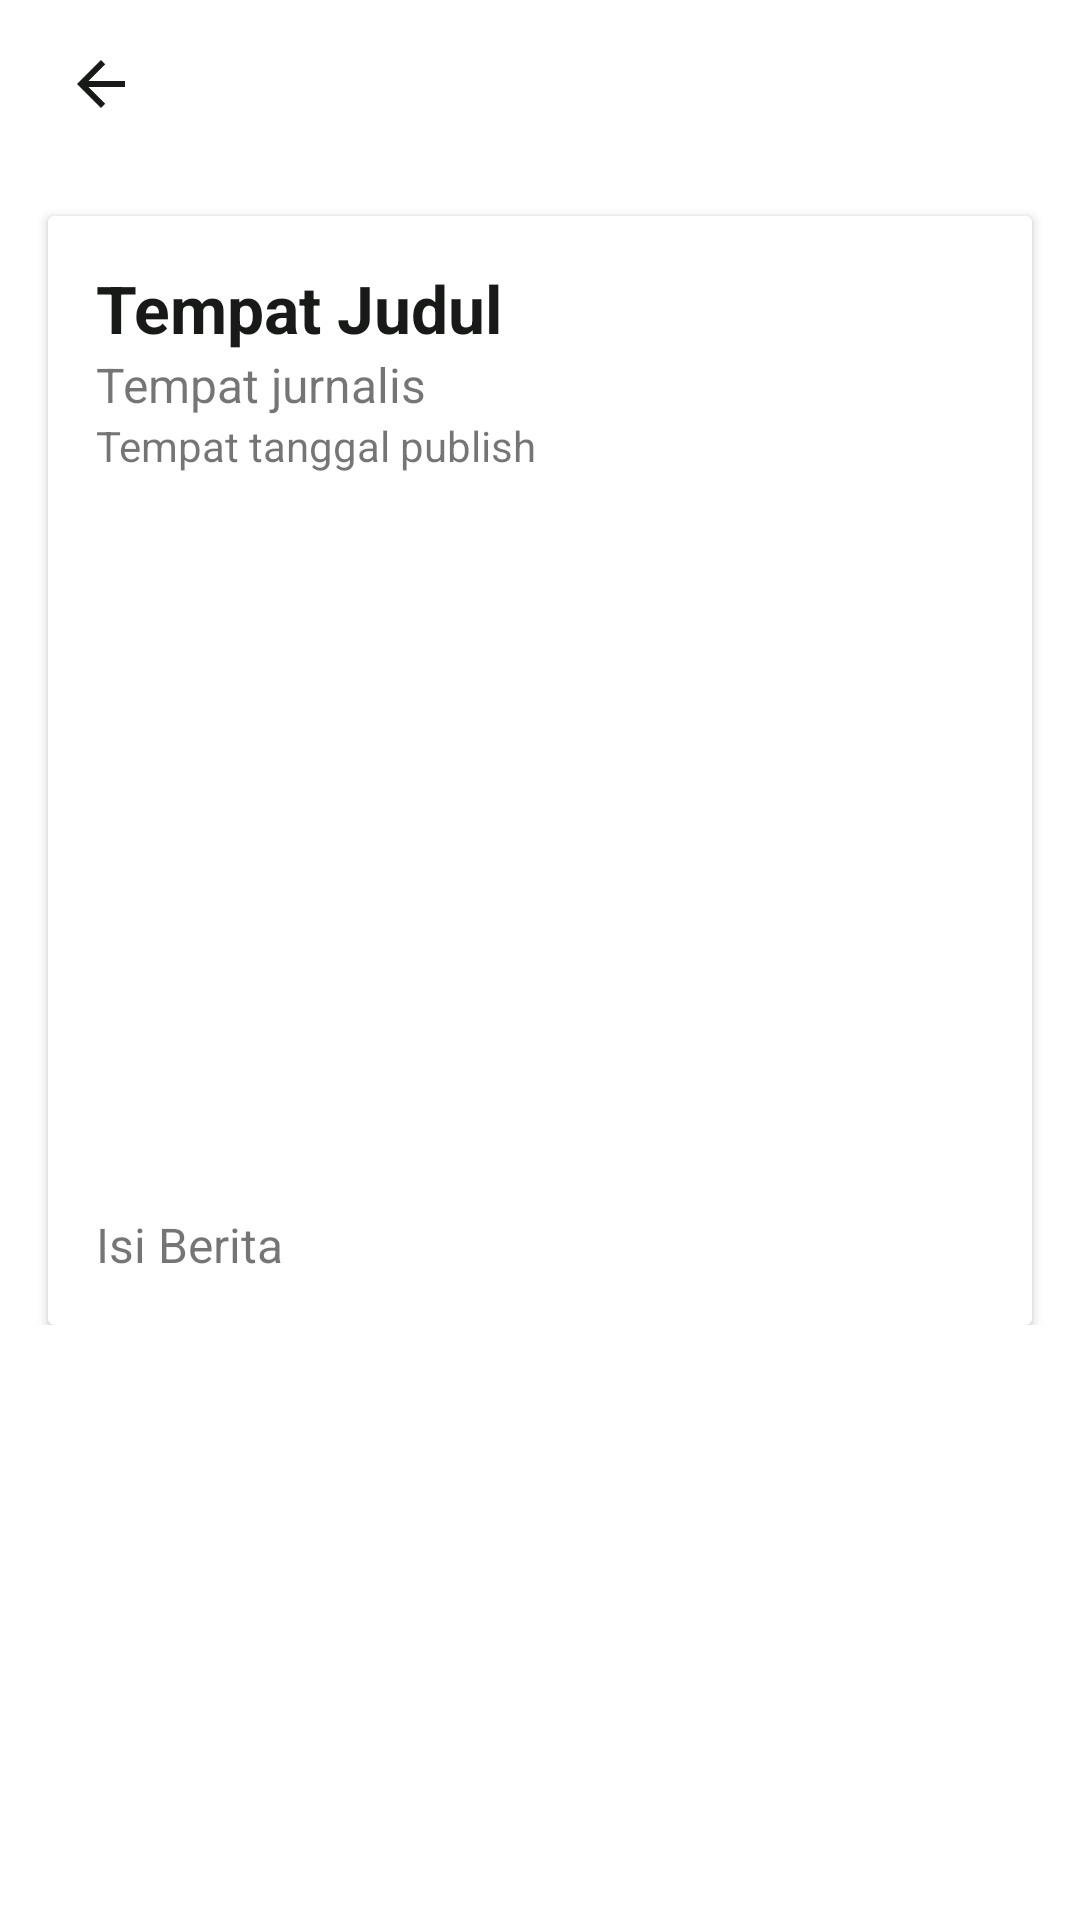

Named icons in this screenshot (1080 x 1920) and their centers, point (x, y):
arrow back: point (101, 84)
